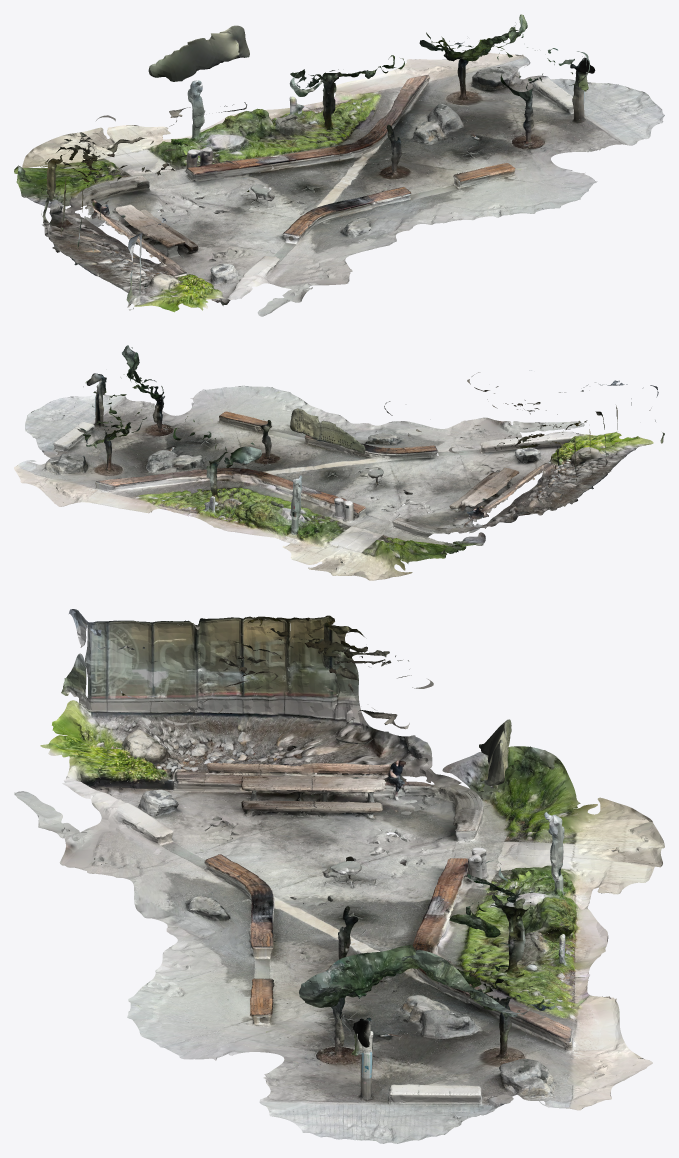
File: Canopy.glb
3 renders of one model, top to bottom at view 1: azimuth 30°, elevation 25°; view 2: azimuth 150°, elevation 25°; view 3: azimuth 270°, elevation 25°, orthographic. The views are drawn at different scales.
Bounding box in the file's own units: 32.91 × 6.59 × 22.07.
Materials: 4 (4 with a texture image).
